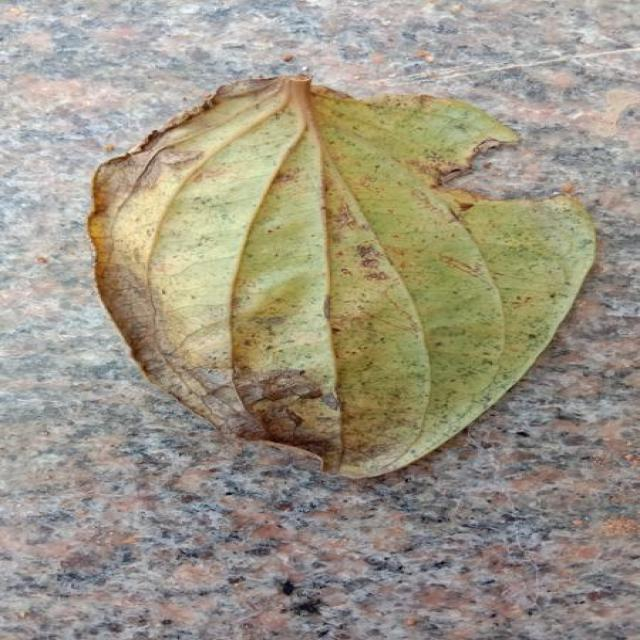defected betel: (88, 76, 593, 477)
disease in leaf: (145, 131, 342, 468)
